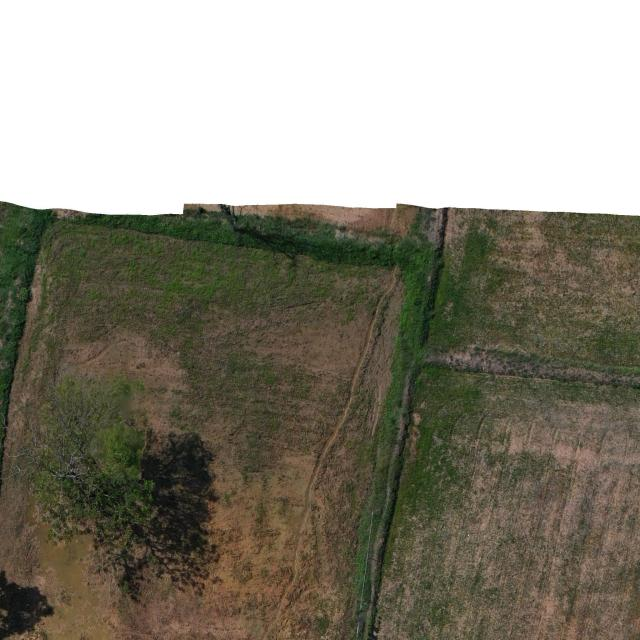Tree: (20, 368, 158, 598)
